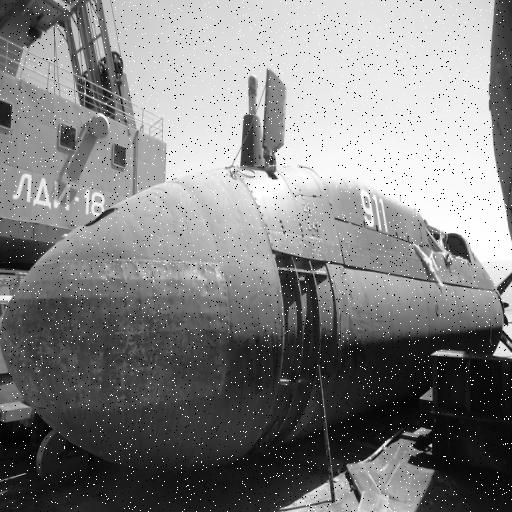submarine: (1, 67, 512, 481)
